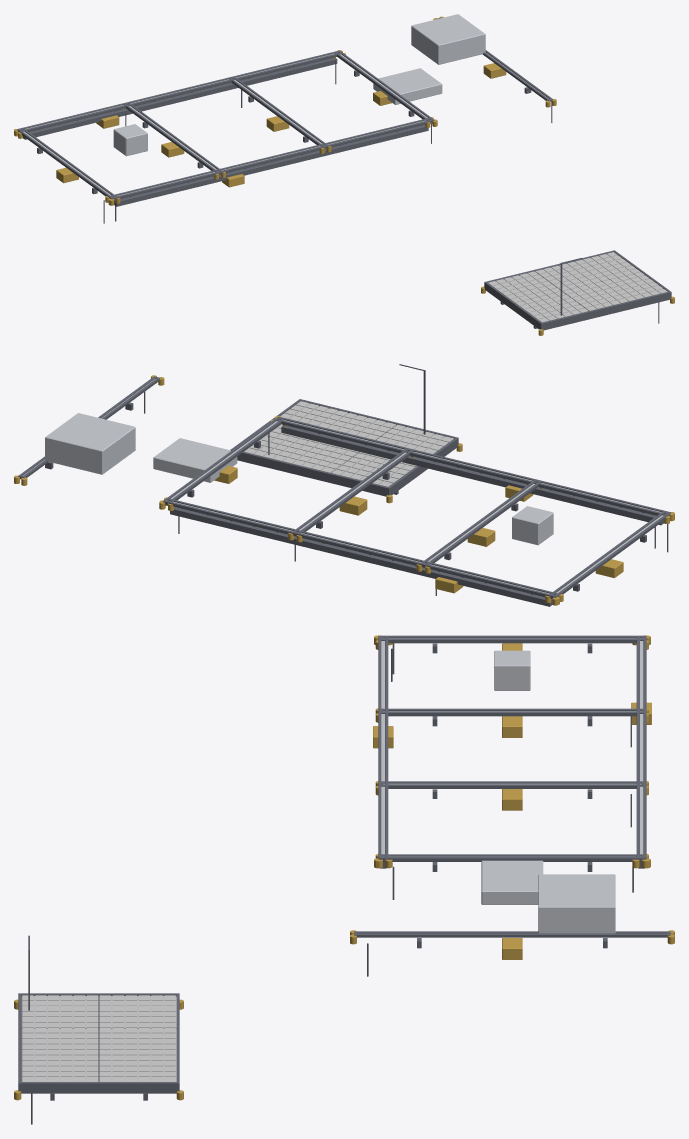
3 views of the same model, one above another, from view 1: azimuth 30°, elevation 25°; view 2: azimuth 150°, elevation 25°; view 3: azimuth 270°, elevation 25° (orthographic). The views are drawn at different scales.
Parts seen in each view (by area): view 1: pm1_m3; view 2: pm1_m3; view 3: pm1_m3.
Boxes of the visible parts, box(x1,y1,x2,y2) form: pm1_m3: box(14, 14, 674, 335); pm1_m3: box(14, 364, 674, 606); pm1_m3: box(14, 635, 674, 1124).
Bounding box in the file's own units: 27.98 × 9.47 × 25.58.
